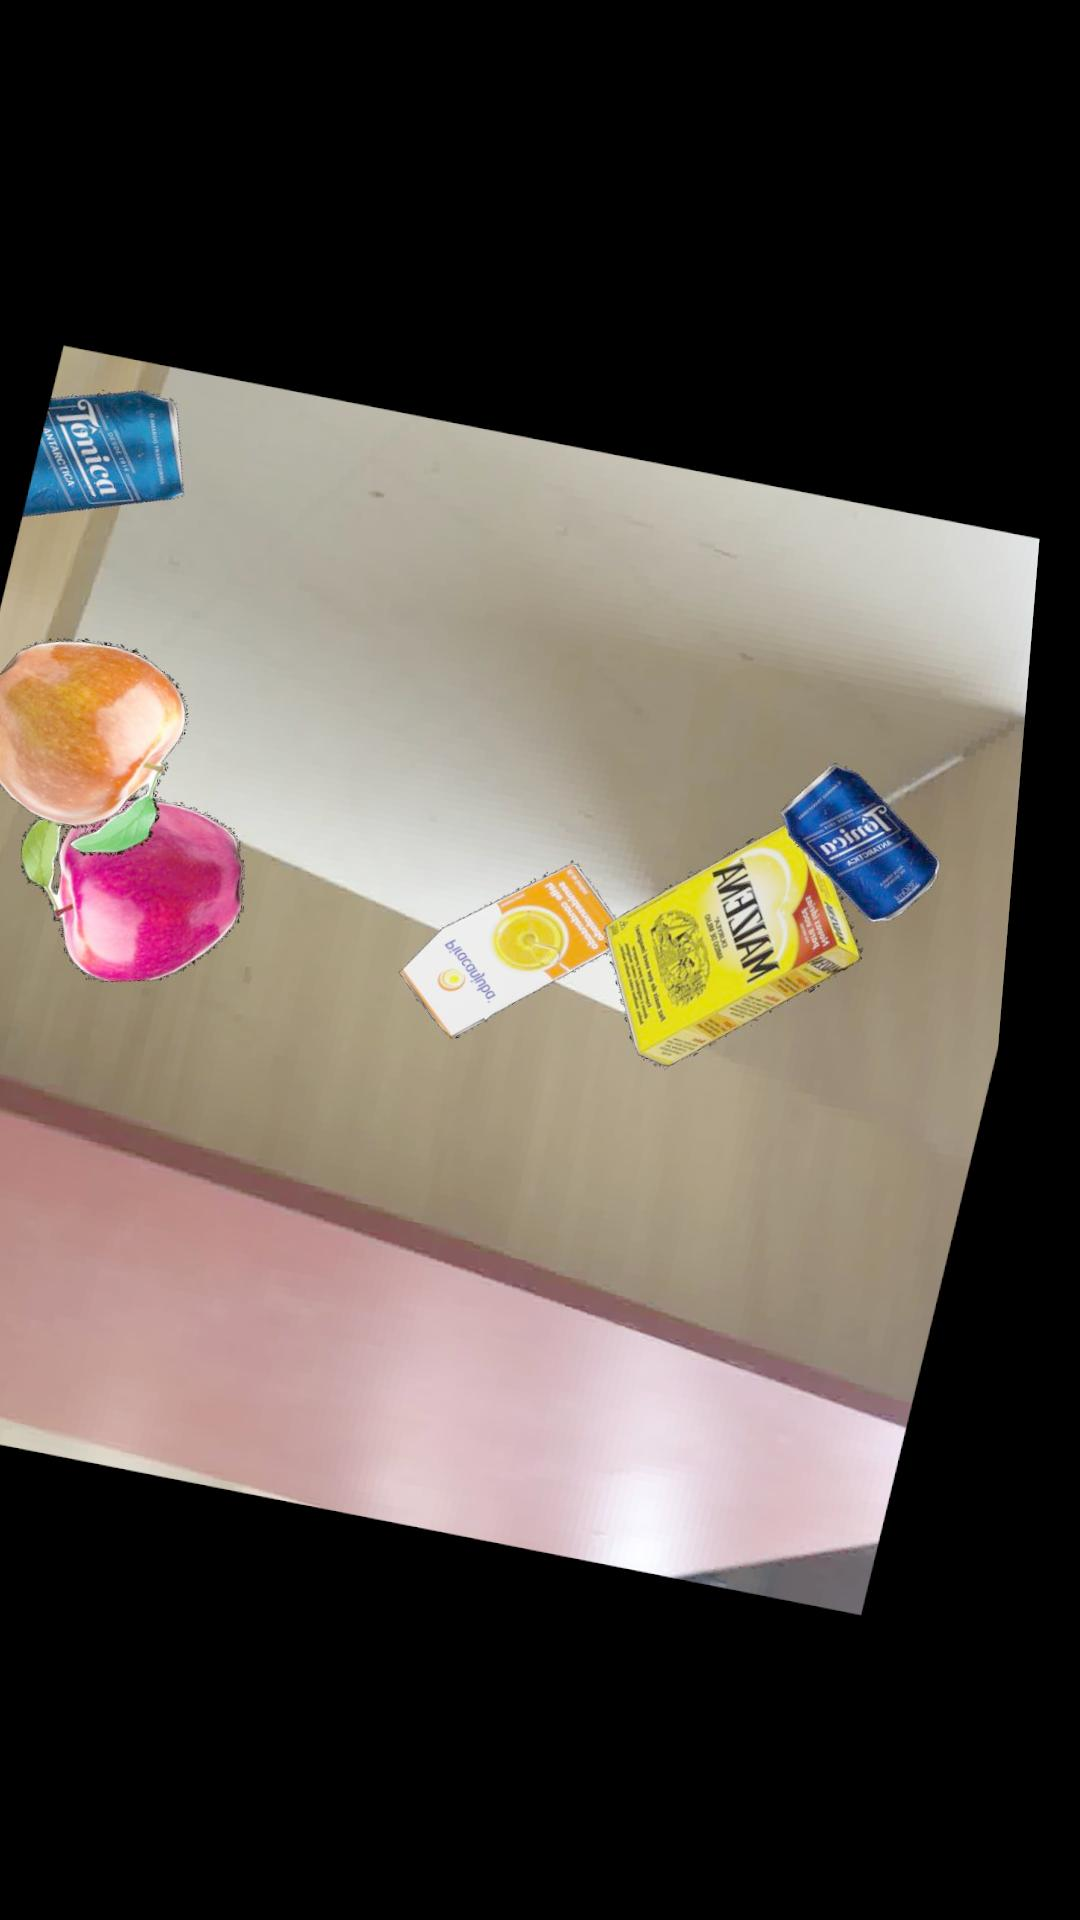apple: (0, 636, 200, 855), (36, 796, 258, 978)
tonic: (794, 754, 955, 913), (32, 388, 193, 516)
